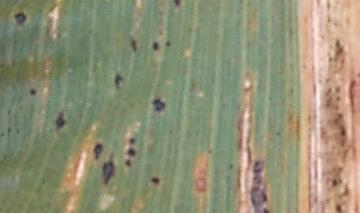tarspot: (103, 153, 115, 184), (151, 96, 165, 112), (55, 110, 65, 130), (93, 142, 103, 160), (13, 12, 26, 24), (338, 122, 347, 137), (334, 38, 343, 52), (114, 74, 122, 89), (130, 39, 138, 53), (126, 146, 137, 156), (329, 176, 338, 187), (342, 183, 349, 196), (150, 41, 159, 51), (150, 176, 160, 185), (29, 86, 37, 97), (261, 191, 268, 203), (124, 158, 132, 167), (334, 84, 341, 94), (128, 137, 136, 145), (338, 111, 345, 119), (333, 94, 341, 101), (173, 1, 182, 7), (165, 38, 171, 47), (6, 107, 12, 116), (228, 161, 234, 170), (206, 147, 213, 154), (6, 125, 12, 133), (262, 207, 270, 213), (336, 204, 341, 213), (15, 127, 21, 134), (1, 131, 6, 137)
